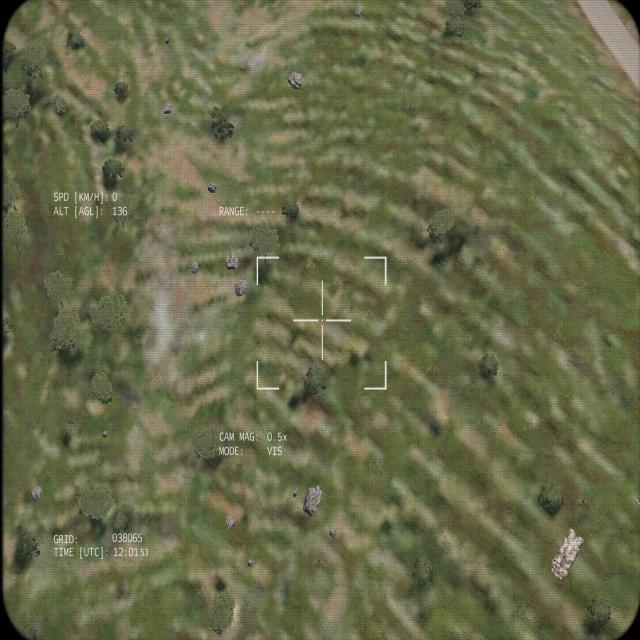apc: (547, 526, 584, 582)
